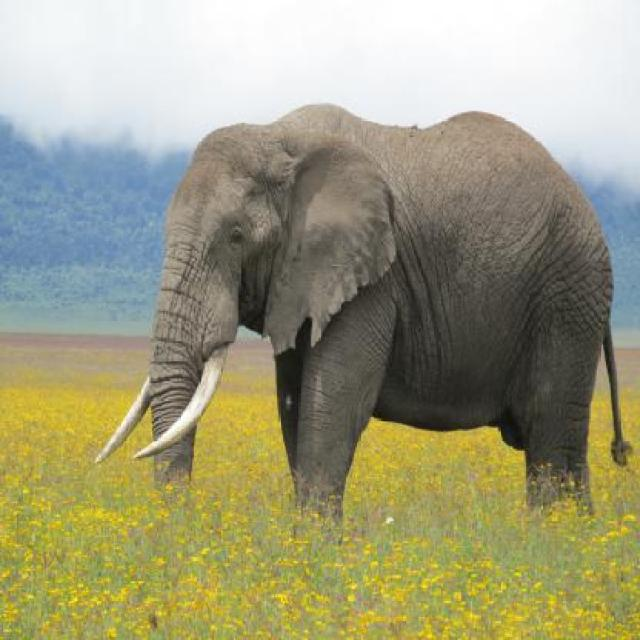Elephant: (89, 99, 636, 530)
